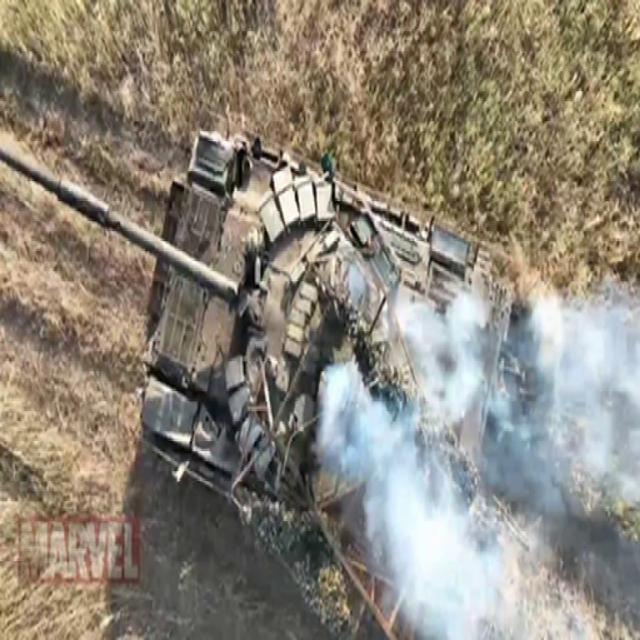TANK: (6, 98, 522, 616)
